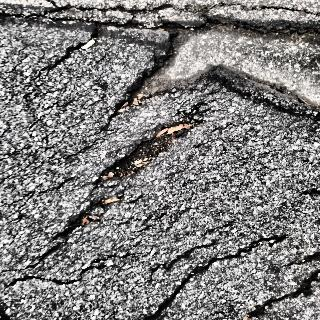crack: (0, 251, 131, 303), (0, 11, 112, 69), (48, 0, 320, 15), (246, 267, 320, 319), (196, 235, 288, 267), (146, 236, 220, 275), (146, 278, 197, 318), (27, 242, 68, 271), (282, 248, 320, 265)
pothole: (117, 18, 320, 116), (81, 125, 201, 182), (42, 198, 110, 238)
